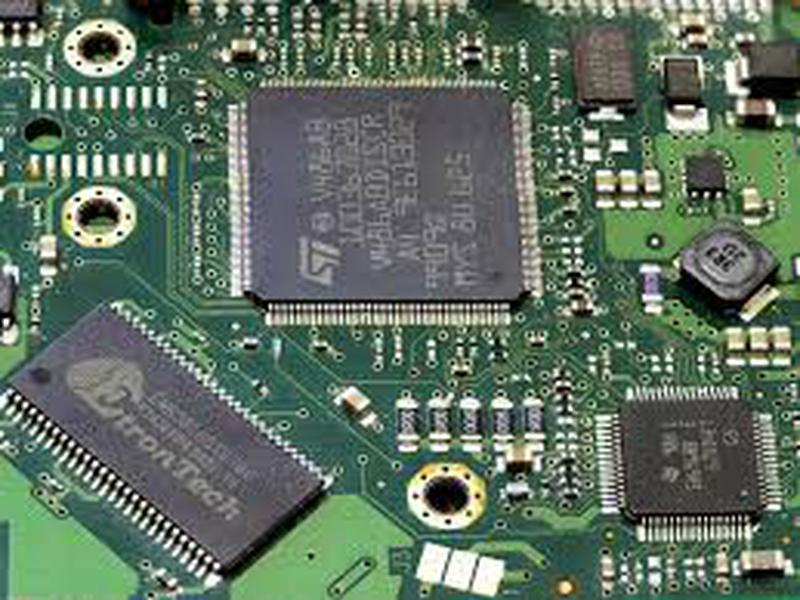SMD capacitor: (738, 551, 785, 572), (595, 169, 616, 193), (618, 167, 637, 193), (749, 327, 767, 352), (774, 327, 791, 353), (726, 327, 743, 352), (644, 169, 659, 197)
inductor_chunk: (681, 218, 775, 318)
